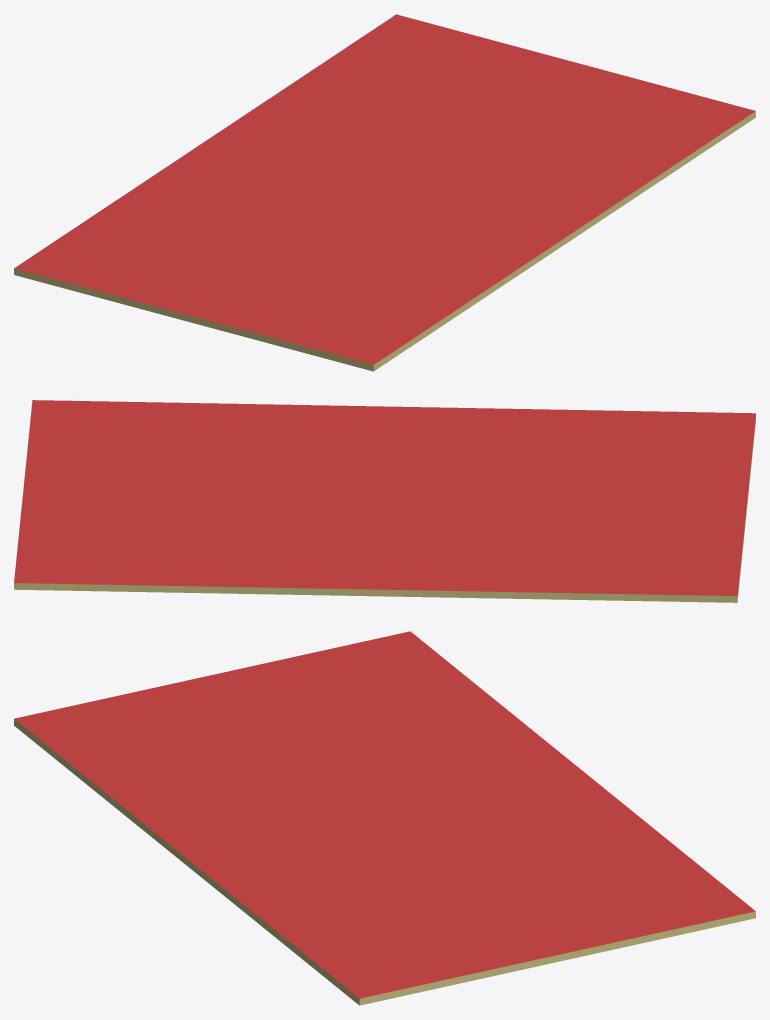
3 renders of one model, top to bottom at view 1: azimuth 30°, elevation 25°; view 2: azimuth 150°, elevation 25°; view 3: azimuth 270°, elevation 25°, orthographic. The views are drawn at different scales.
Bounding box in the file's own units: 11.36 × 9.7 × 0.1.
